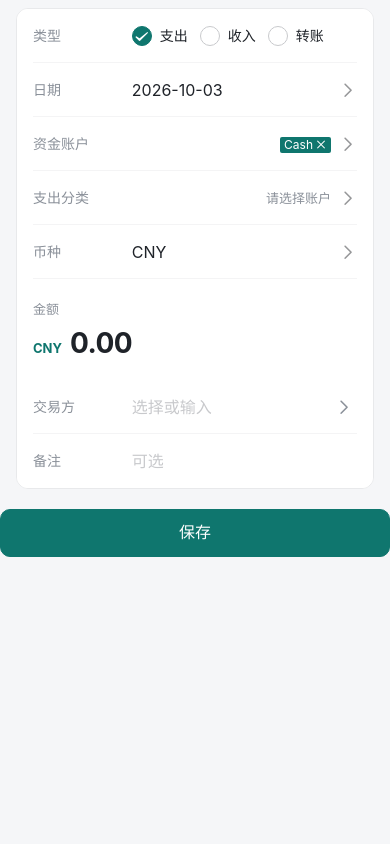
Scenario: TransactionForm › limits currency options to funding account currencies and loads payees
expect the element showing "类型 支出 收入 转账 日期 资金账户 Cash 支出分类 请选择账户 币种 金额 CNY 0.00 交易方 备注" is shown: met, box [16,8,374,489]
Click the button named "选择交易方": (344, 407) [331,391,357,423]
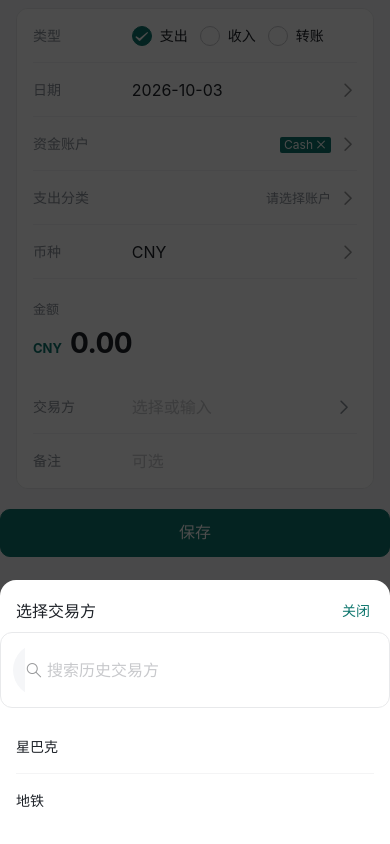
expect the text "星巴克" is shown: met, box [16,738,58,755]
expect the text "地铁" is shown: met, box [16,792,44,809]
